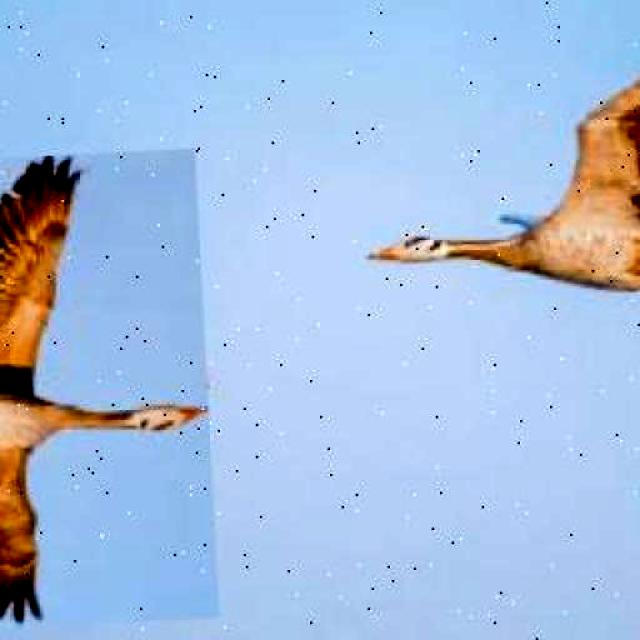airplane: (0, 149, 220, 639), (354, 19, 640, 319)
